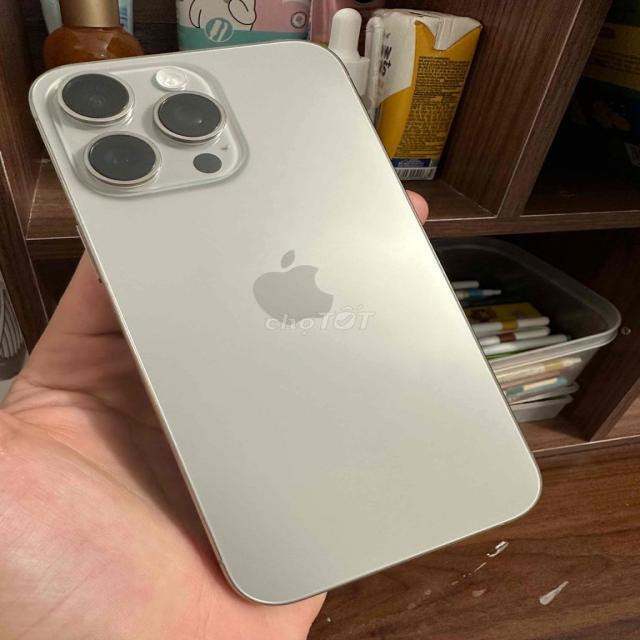gen_15: (30, 35, 559, 607)
